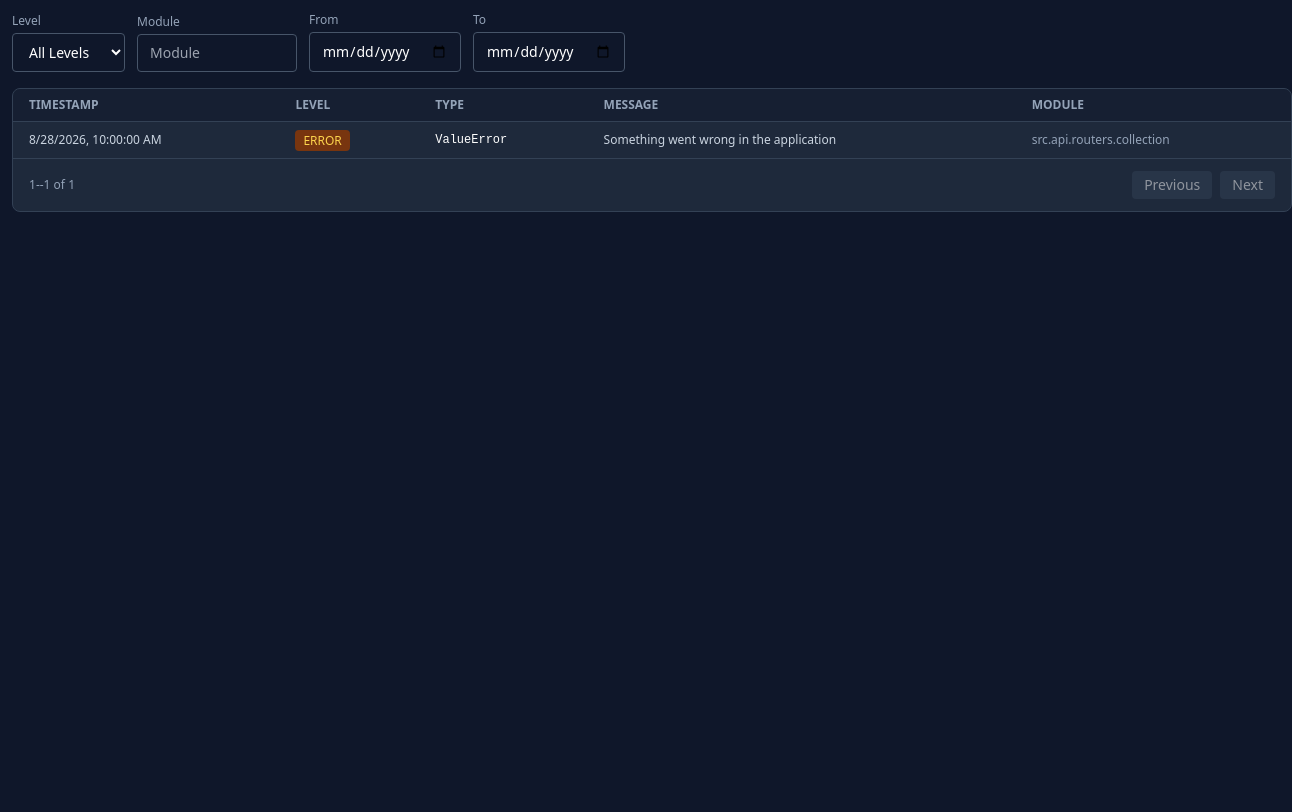
Test: AdminErrorsSection › clicking row expands detail with traceback and request context
The image size is (1292, 812).
Click the row with test id "error-row-err-1": (652, 140) [13, 122, 1291, 158]
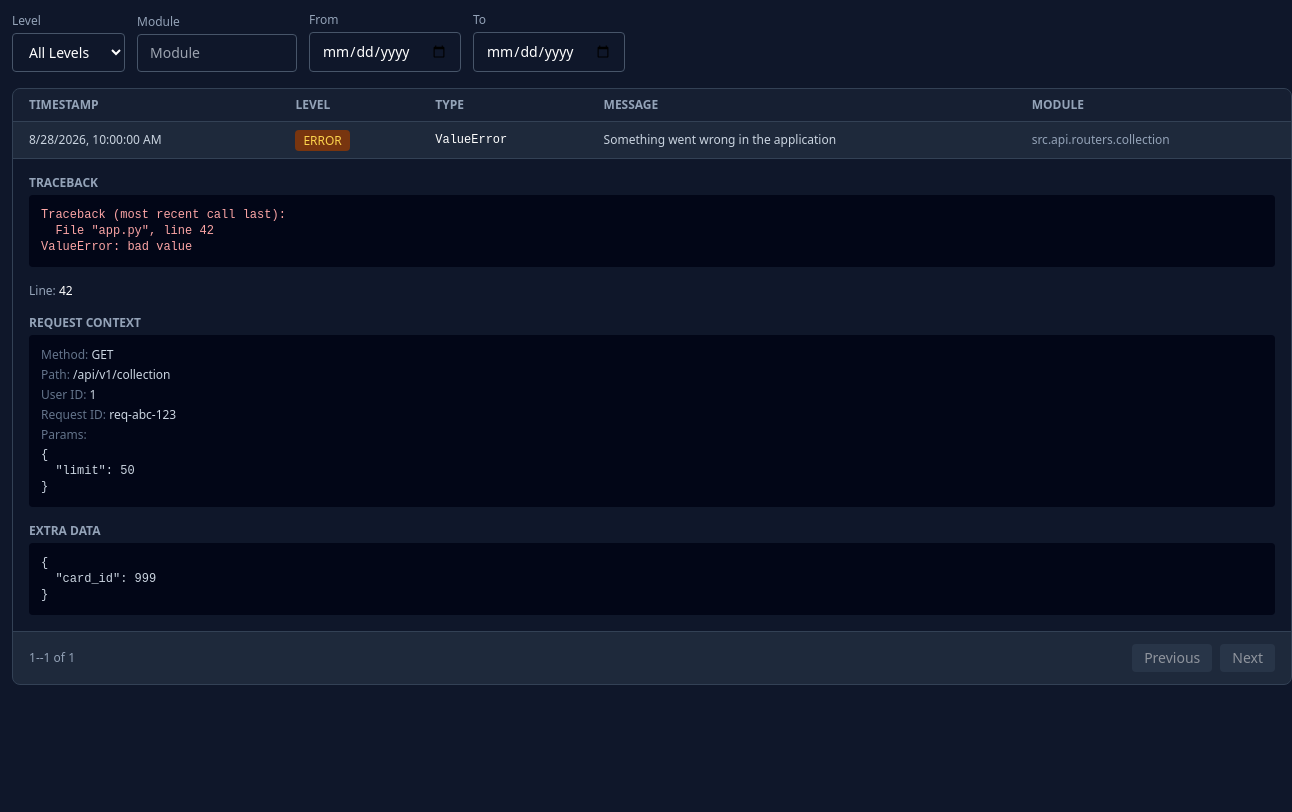
Expected: the element with test id "error-detail-err-1" is shown, [13, 158, 1291, 631]
Expected: the text with test id "error-traceback" is shown, [29, 195, 1275, 267]
Expected: the text with test id "error-traceback" shows "Traceback", [41, 208, 286, 254]
